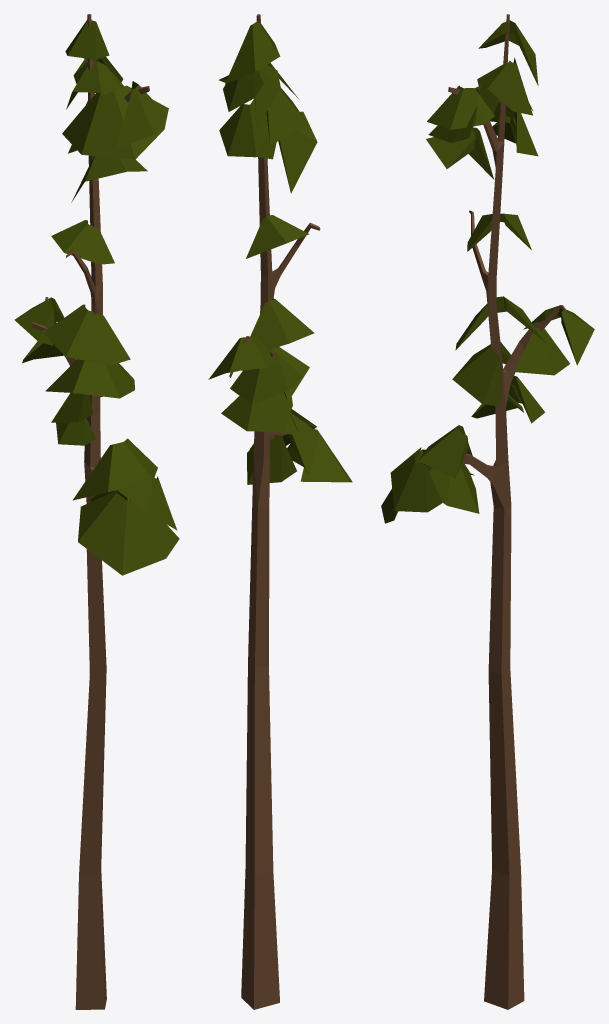
File: mesh_tree4_1.fbx
The picture shows the model from 3 angles, left to right: view 1: azimuth 30°, elevation 25°; view 2: azimuth 150°, elevation 25°; view 3: azimuth 270°, elevation 25°; orthographic projection.
Parts seen in each view (by area): view 1: mesh_tree4_1; view 2: mesh_tree4_1; view 3: mesh_tree4_1.
Boxes of the visible parts, left/top/right/bottom form: mesh_tree4_1: left=14, top=14, right=179, bottom=1009; mesh_tree4_1: left=208, top=14, right=352, bottom=1009; mesh_tree4_1: left=381, top=14, right=594, bottom=1009.
Size of the model in its own units: 1.42 by 11.66 by 2.29.
